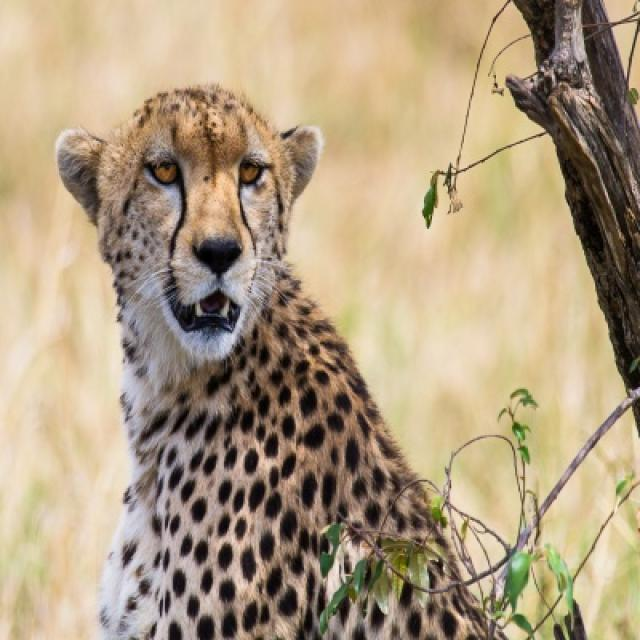Cheetah: (58, 86, 483, 638)
